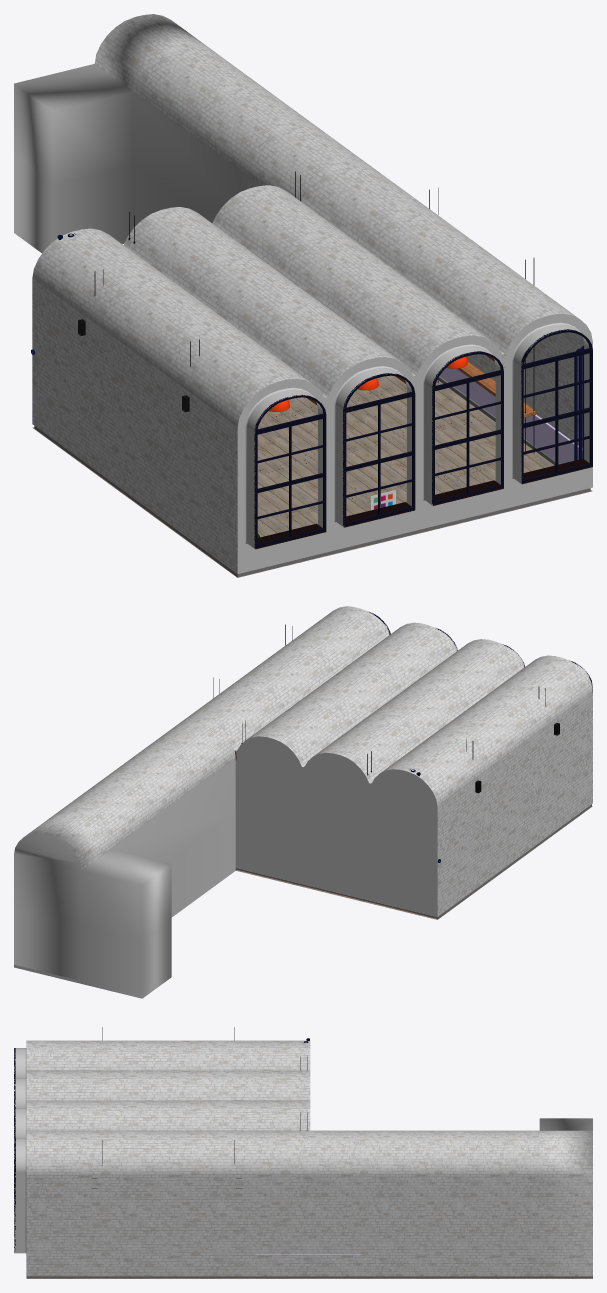
Rendered from room_no_lights.FBX.
3 views of the same model, one above another, from view 1: azimuth 30°, elevation 25°; view 2: azimuth 150°, elevation 25°; view 3: azimuth 270°, elevation 25° (orthographic). The views are drawn at different scales.
Parts seen in each view (by area): view 1: wall, windowwall (2), floor, window_, window_ (3), window_ (4), window_ (2), BASEBOARD, lowerpanel (2), windowsill; view 2: wall, wall (2), BASEBOARD, floor; view 3: wall, windowwall (2), BASEBOARD, floor.
Boxes of the visible parts, box(x1,y1,x2,y2) form: wall: box(14, 14, 584, 573); windowwall (2): box(237, 313, 592, 573); floor: box(32, 375, 592, 577); window_: box(520, 329, 592, 482); window_ (3): box(343, 373, 415, 526); window_ (4): box(254, 395, 326, 547); window_ (2): box(432, 351, 503, 504); BASEBOARD: box(14, 229, 590, 577); lowerpanel (2): box(439, 367, 582, 464); windowsill: box(255, 458, 592, 549); wall: box(14, 606, 592, 995); wall (2): box(234, 736, 437, 916); BASEBOARD: box(14, 804, 591, 998); floor: box(236, 806, 592, 919); wall: box(26, 1040, 592, 1276); windowwall (2): box(14, 1048, 26, 1253); BASEBOARD: box(27, 1276, 592, 1278); floor: box(26, 1276, 592, 1278).
Size of the model in its own units: 10.16 by 5.25 by 20.39.
